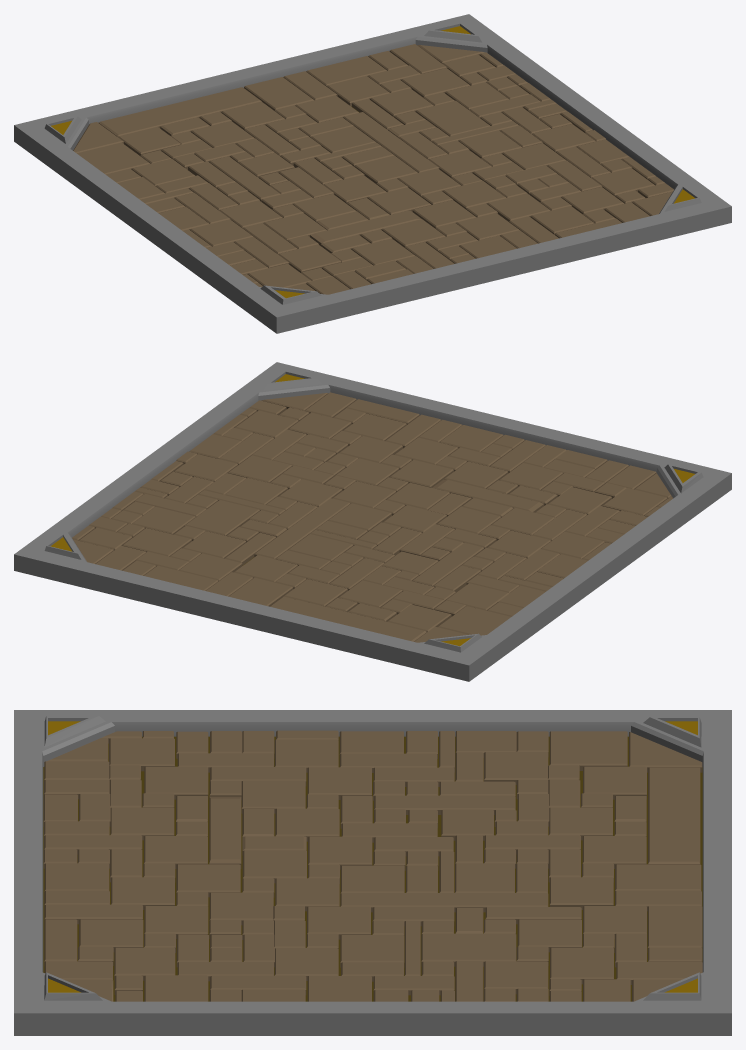
Rendered from plafond_tile1.fbx.
The picture shows the model from 3 angles, top to bottom: view 1: azimuth 30°, elevation 25°; view 2: azimuth 150°, elevation 25°; view 3: azimuth 270°, elevation 25°; orthographic projection. The views are drawn at different scales.
Parts seen in each view (by area): view 1: sol; view 2: sol; view 3: sol.
Part boxes in pixels (x1,y1,x2,y2): sol: (14, 14, 731, 333); sol: (14, 362, 731, 681); sol: (14, 710, 731, 1035).
Bounding box in the file's own units: 157 × 157 × 7.01.
